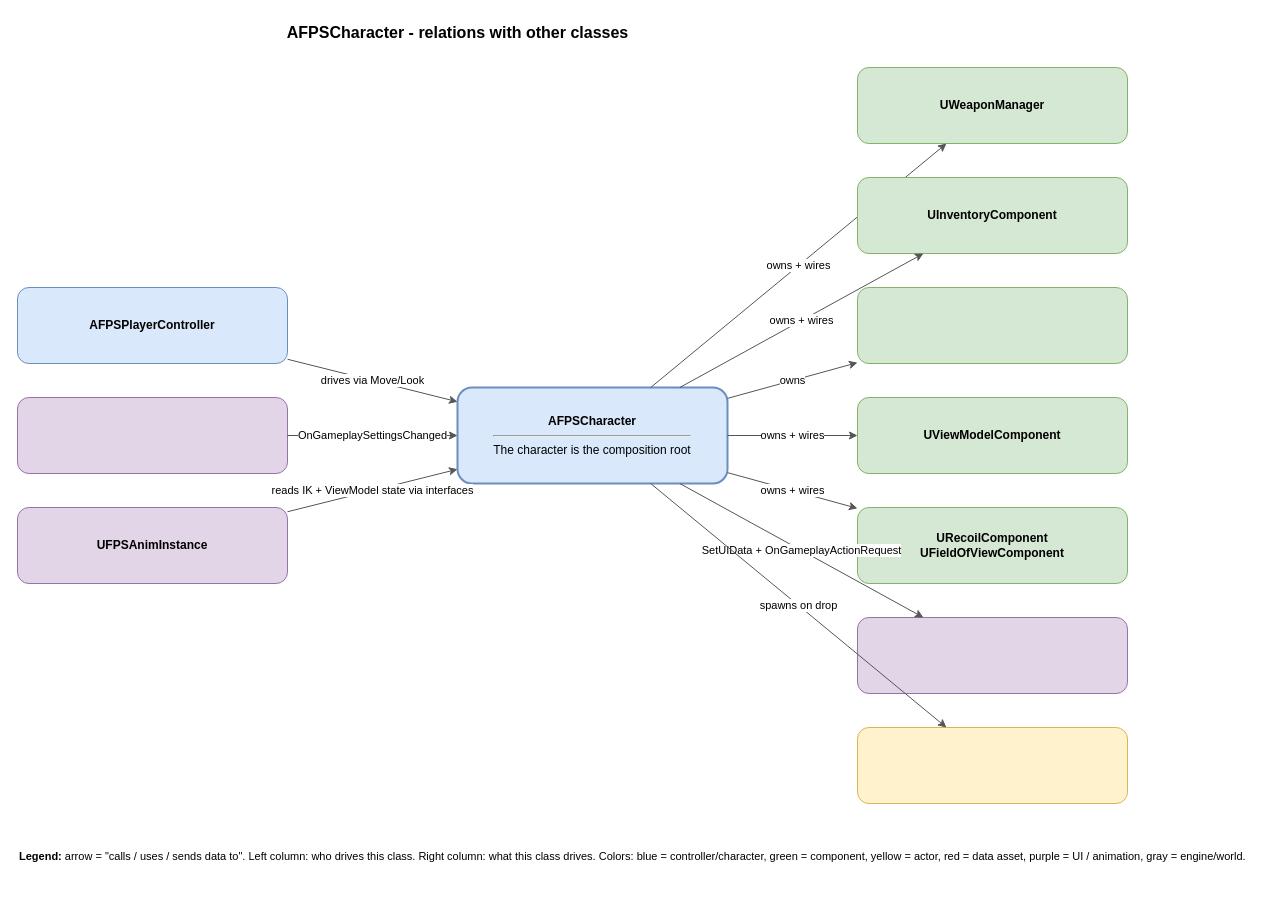
The diagram is 1264 pixels wide and 900 high, and some of its shapes have lost their labels. Here are the shapes that lost their labels. From the top down, the box of each, then its label:
(856, 286, 1128, 364): UFPSStateComponent
(16, 396, 288, 474): ULocalGlobalSettings
(856, 616, 1128, 694): ULocalUIManager
(856, 726, 1128, 804): APickUpActor
